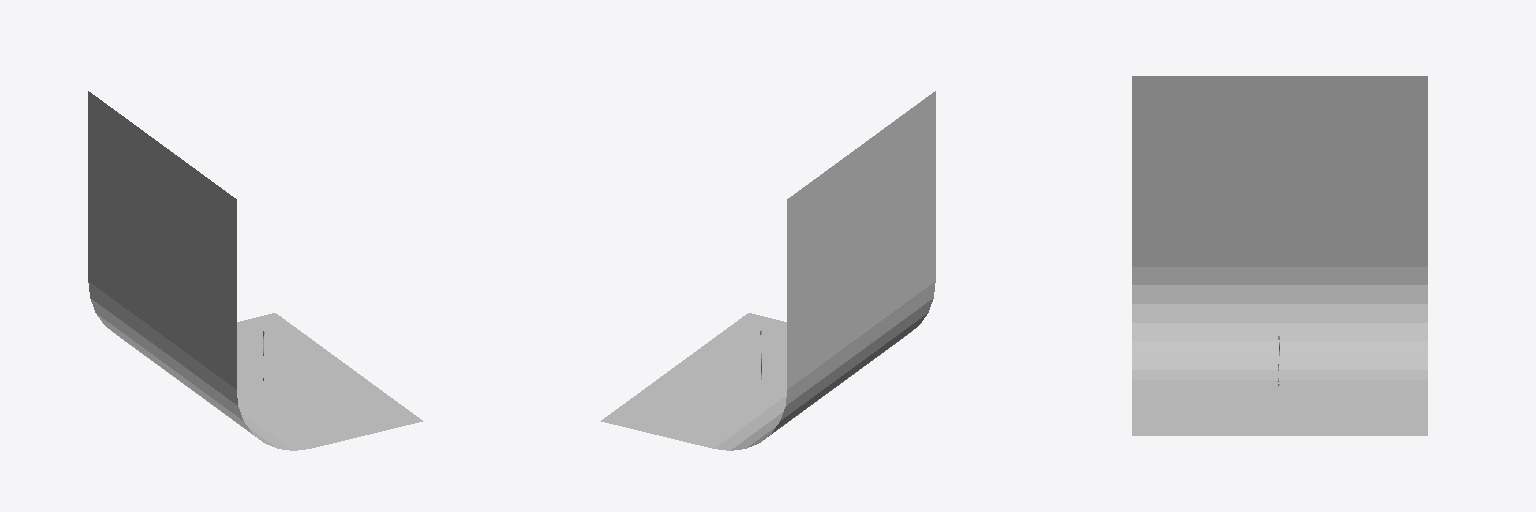
3 renders of one model, left to right at view 1: azimuth 30°, elevation 25°; view 2: azimuth 150°, elevation 25°; view 3: azimuth 270°, elevation 25°, orthographic.
Visible parts, largest first — view 1: Площина; view 2: Площина; view 3: Площина.
Boxes of the visible parts, <box> form: Площина: <box>88,91,422,450</box>; Площина: <box>601,91,935,450</box>; Площина: <box>1132,76,1427,435</box>.
Bounding box in the file's own units: 15.63 × 21.37 × 21.46.